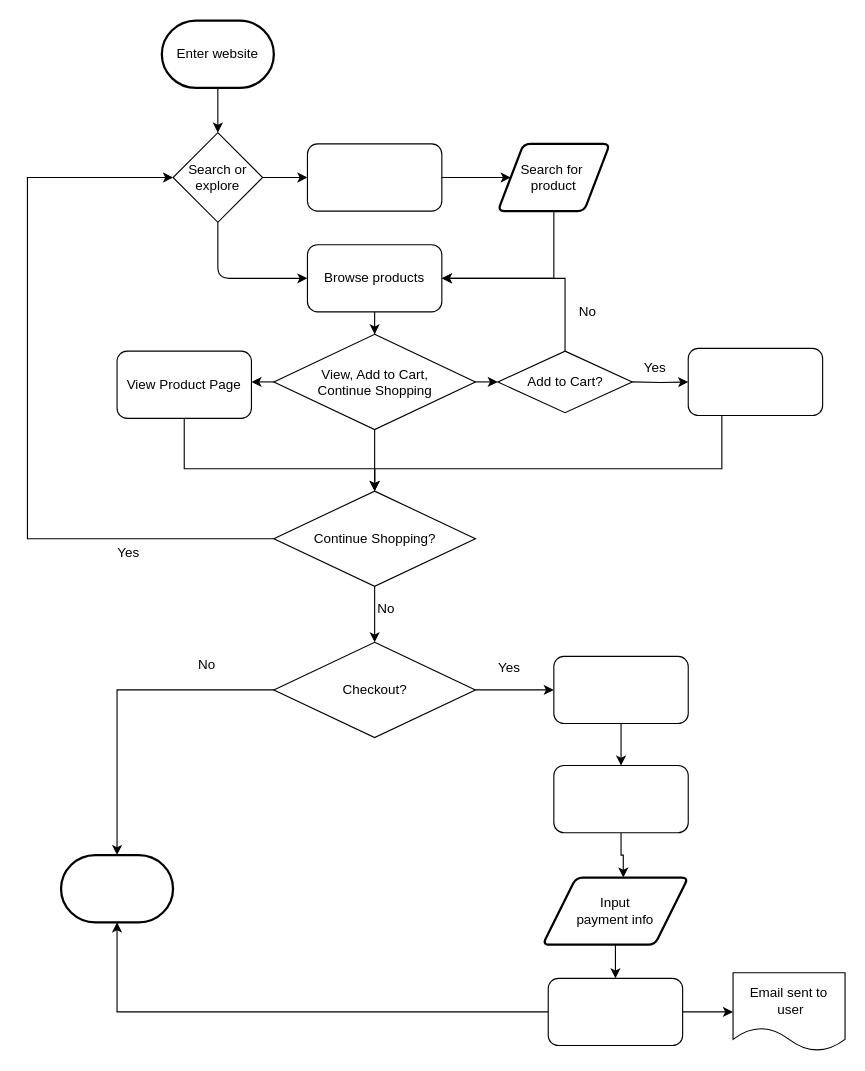
This 865x1071 diagram has some shape labels left out. Each missing label, with the centre of its shape:
"Add to Cart" goes at point (755, 381).
"Leave website" goes at point (116, 888).
"Order Confirmation" goes at point (615, 1011).
"Search for a product" goes at point (374, 177).
"View Cart" goes at point (620, 689).
"View Payment" goes at point (620, 798).
